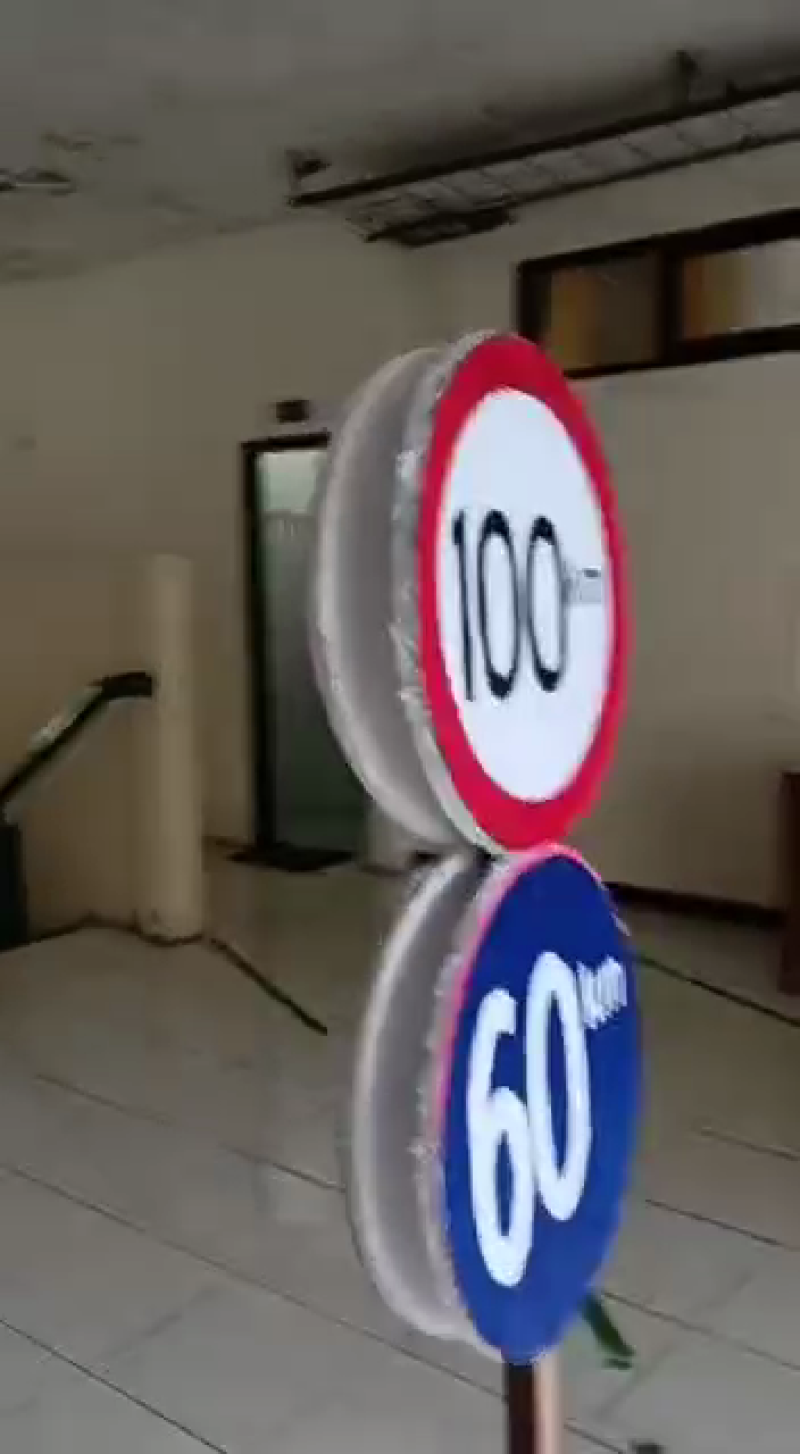batas maksimal 100kmperjam minimal 60kmperjam: (383, 322, 679, 1359)
